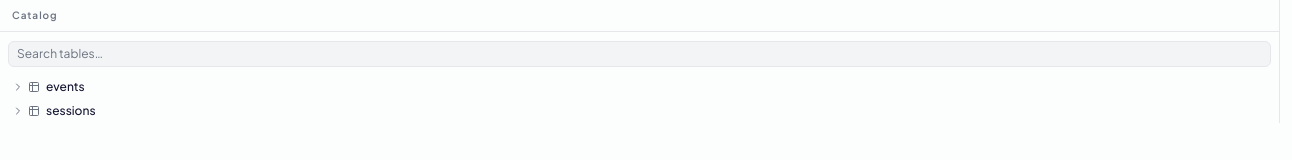
CatalogBrowser › search input filters the table list
The width and height of the screenshot is (1292, 160).
Check: the text "events" is shown, box [46,79,85,95]
Type "sess" into the search field with placeholder "Search tables…" at x=640, y=54, box [8,41,1271,67]
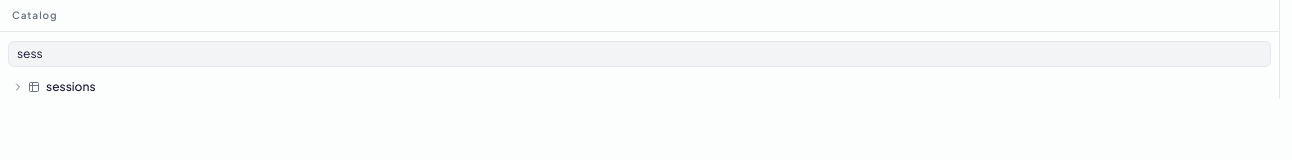
Check: the text "sessions" is shown, box [46,79,96,95]
Check: the button "events" is gone
